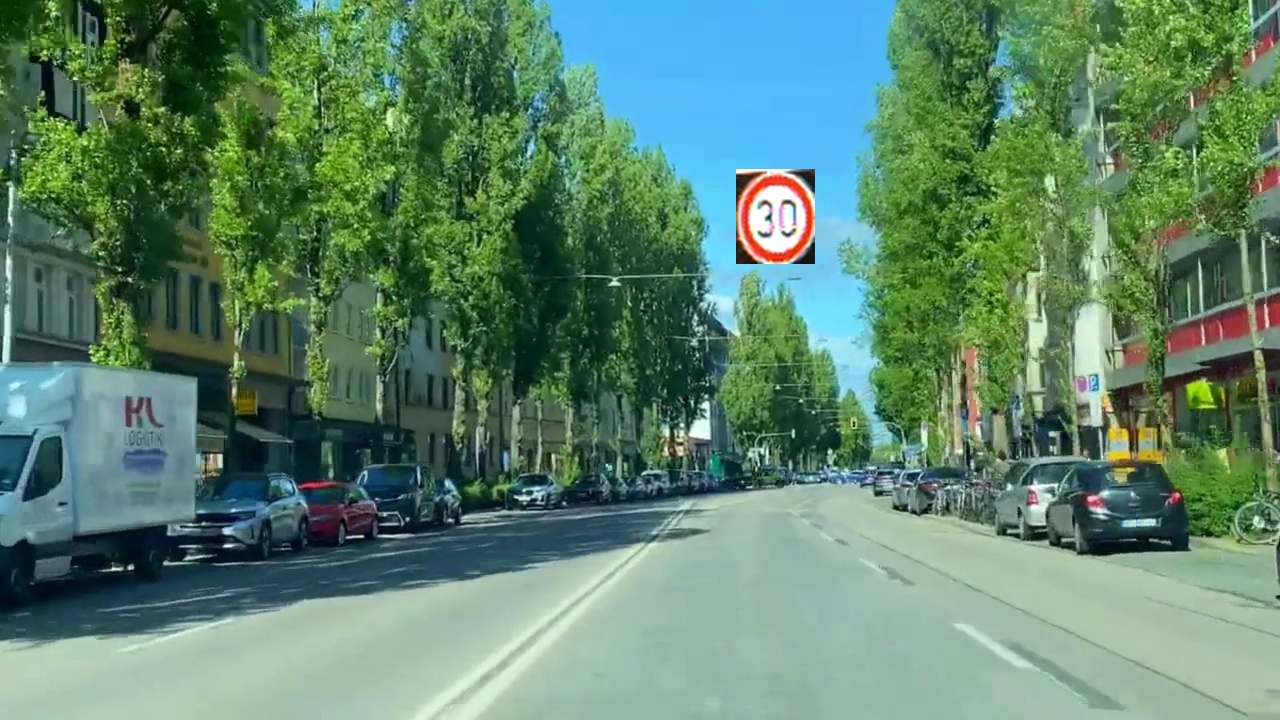Speed 30: (736, 169, 815, 264)
